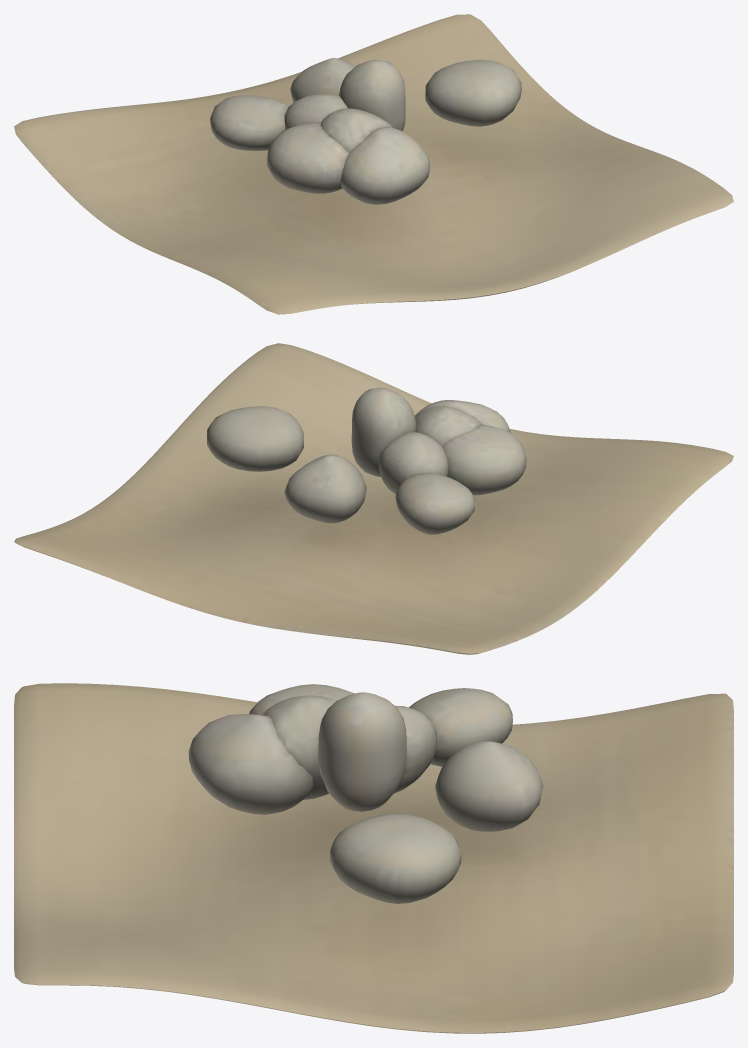
File: natron.glb
3 views of the same model, one above another, from view 1: azimuth 30°, elevation 25°; view 2: azimuth 150°, elevation 25°; view 3: azimuth 270°, elevation 25° (orthographic). The views are drawn at different scales.
Parts seen in each view (by area): view 1: natron; view 2: natron; view 3: natron.
Boxes of the visible parts, x1,y1,x2,y2 form: natron: (14,14,733,314); natron: (14,343,733,654); natron: (14,683,733,1033).
Bounding box in the file's own units: 0.1193 × 0.0363 × 0.1193.
Materials: 1 (1 with a texture image).
